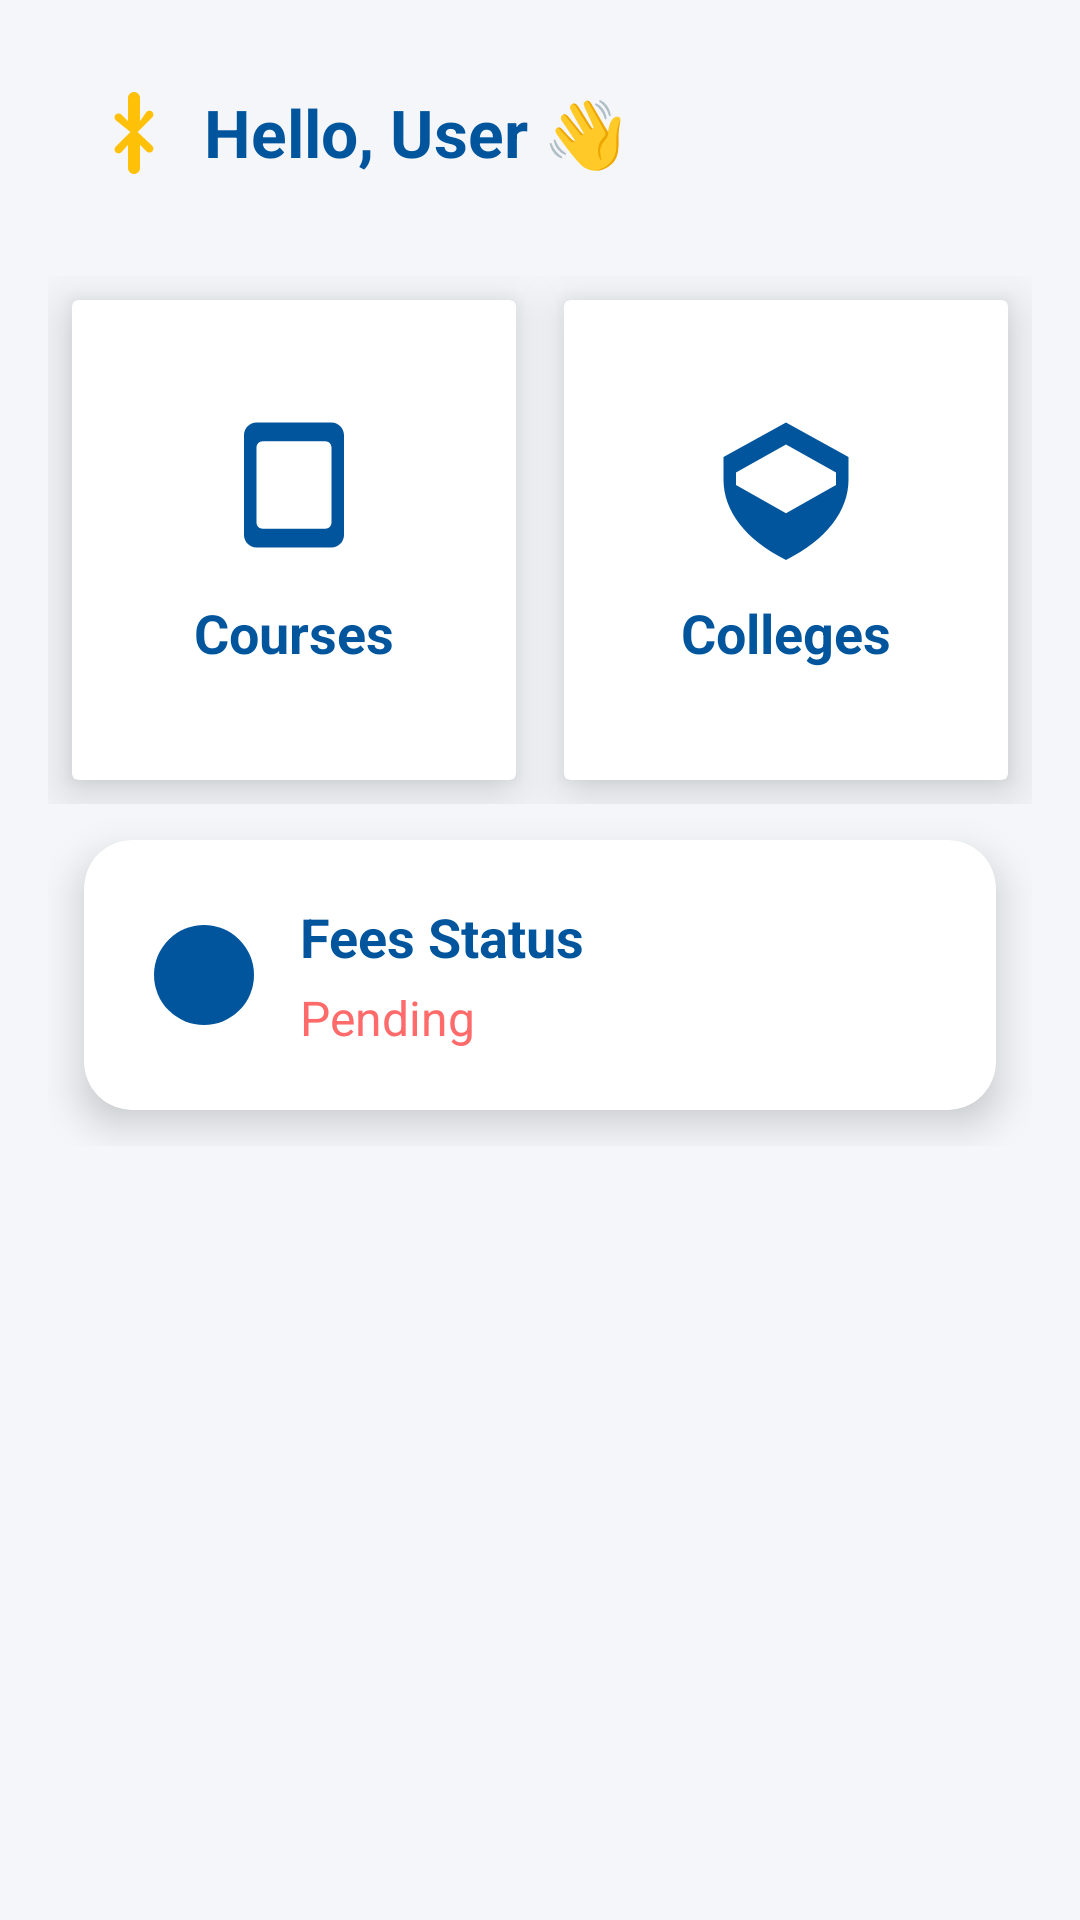

Icons on this 1080 x 1920 Android screen, each with its box as bbox=[x1, y1, x2, y2]:
College Icon: bbox=[723, 422, 849, 560]
